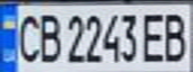2: (81, 9, 106, 64), (63, 9, 84, 64)
3: (118, 10, 142, 63)
4: (103, 9, 124, 64)
B: (157, 8, 193, 63), (33, 9, 63, 64)
C: (9, 9, 45, 64)
E: (139, 9, 172, 63)
